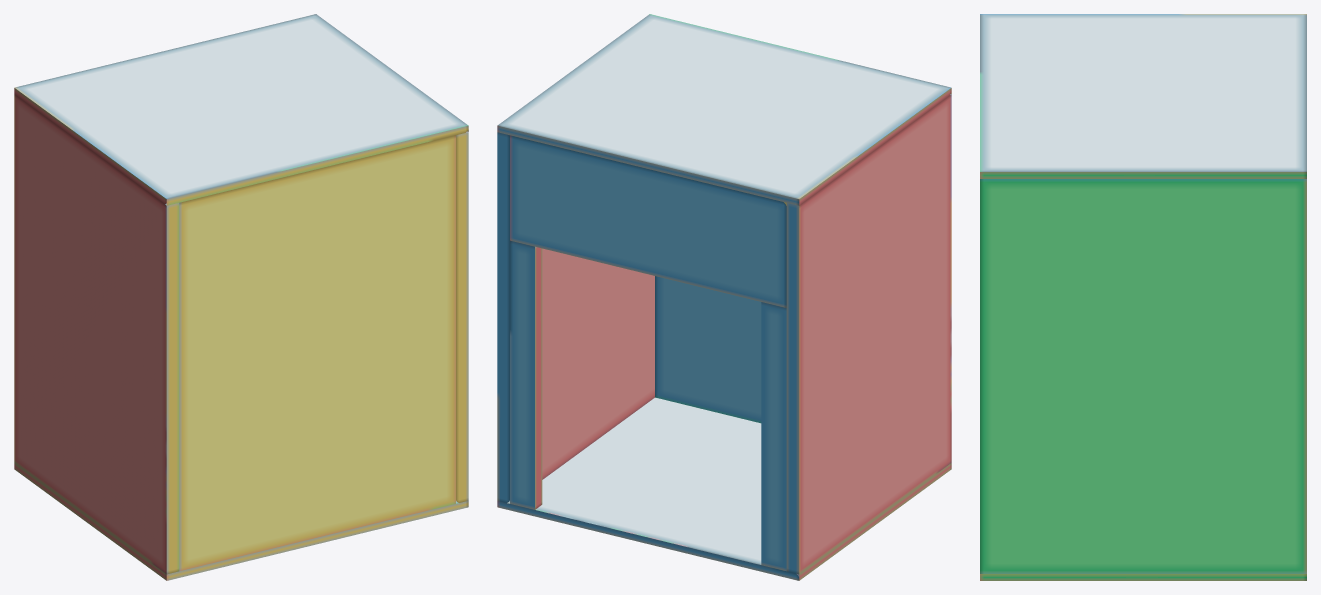
File: ElevatorCabin.fbx
The picture shows the model from 3 angles, left to right: view 1: azimuth 30°, elevation 25°; view 2: azimuth 150°, elevation 25°; view 3: azimuth 270°, elevation 25°; orthographic projection. The views are drawn at different scales.
Visible parts, largest first — view 1: cube_3, cube_2, cube_4, cube_1, cube; view 2: cube_2, cube_4, cube_7, cube, cube_1, cube_3, cube_5, cube_6; view 3: cube_1, cube_4, cube.
Boxes of the visible parts, box(x1,y1,x2,y2) form: cube_3: box(179, 135, 455, 571); cube_2: box(14, 94, 179, 574); cube_4: box(14, 14, 468, 205); cube_1: box(456, 131, 468, 502); cube: box(14, 463, 468, 580); cube_2: box(786, 94, 951, 574); cube_4: box(497, 14, 951, 205); cube_7: box(510, 135, 786, 307); cube: box(497, 397, 951, 580); cube_1: box(497, 132, 654, 502); cube_3: box(655, 276, 761, 423); cube_5: box(510, 240, 542, 509); cube_6: box(761, 302, 786, 571); cube_1: box(980, 179, 1306, 573); cube_4: box(980, 14, 1306, 178); cube: box(980, 574, 1306, 580).
Bounding box in the file's own units: 300 × 362 × 262.
Materials: 1 (1 with a texture image).
